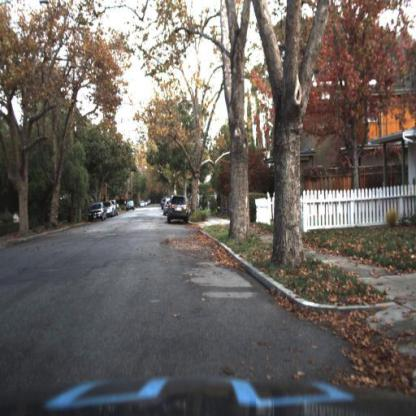car: (167, 190, 192, 226), (87, 202, 108, 225), (162, 196, 176, 221), (162, 196, 173, 222), (107, 200, 115, 220), (127, 201, 137, 215)
